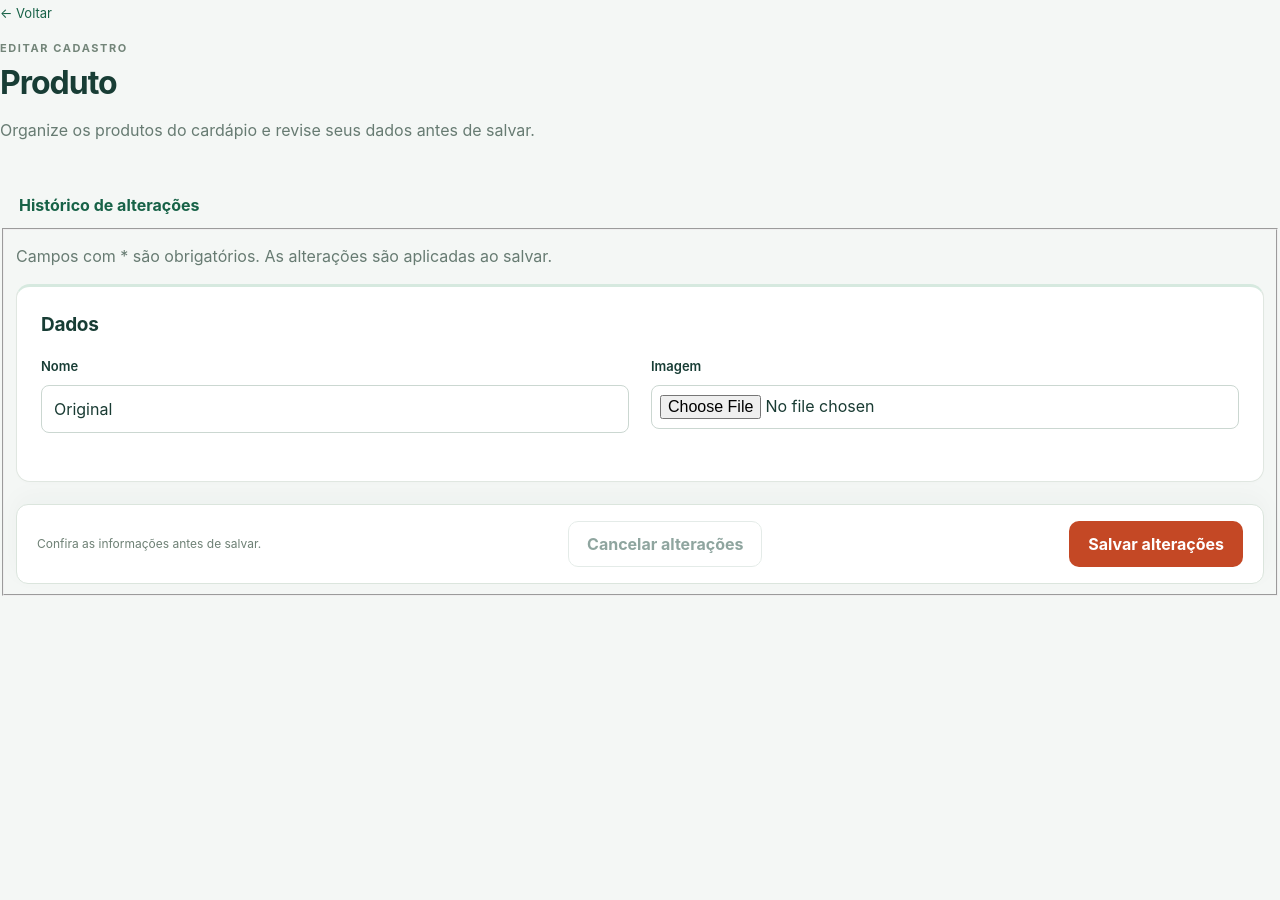
Test: blocks leaving a dirty form and discards only after explicit confirmation
The image size is (1280, 900).
Replace the text in the field labelled "Nome" with "Editado": (335, 409) [41,385,629,433]
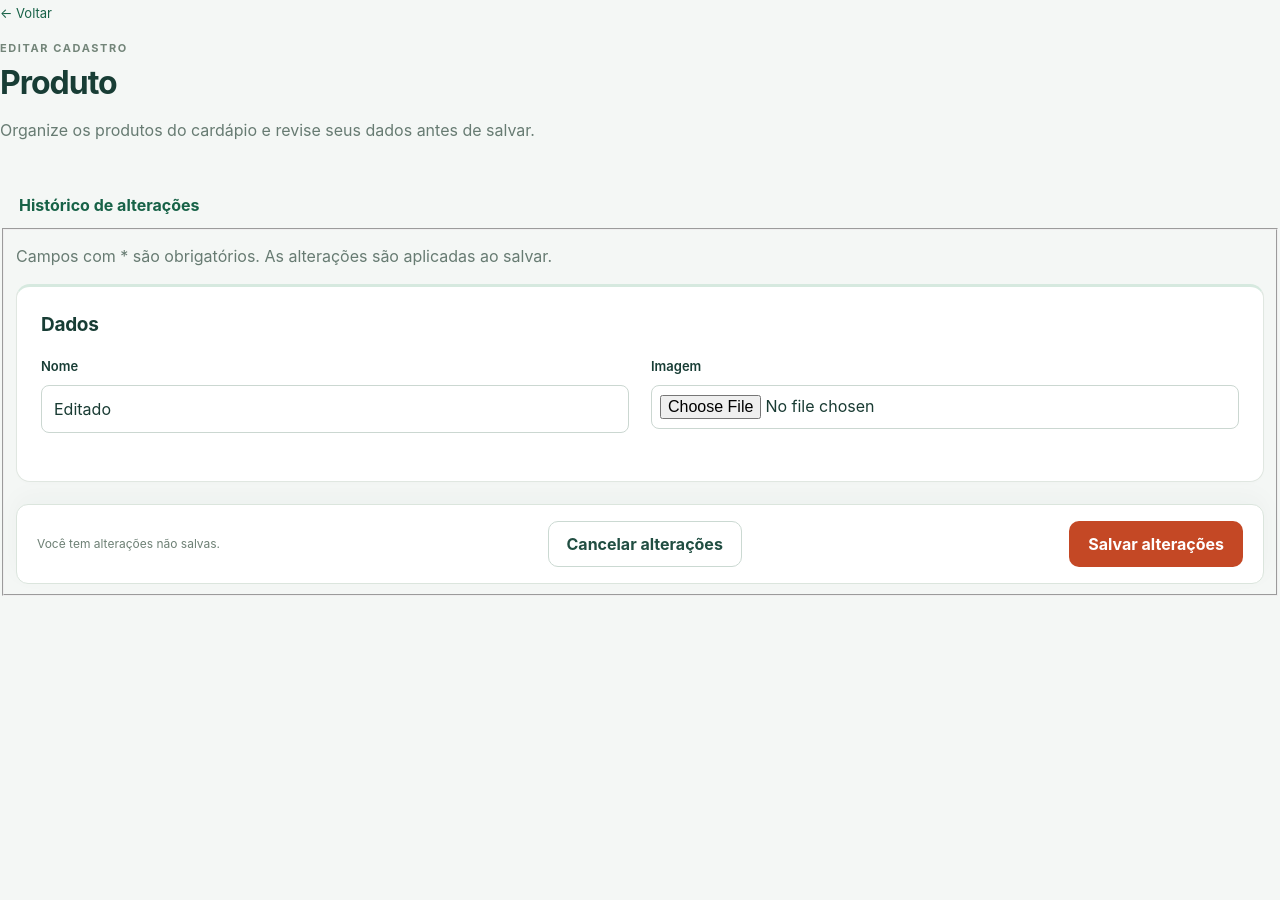
Click the link "← Voltar": (26, 14) [0,4,52,24]
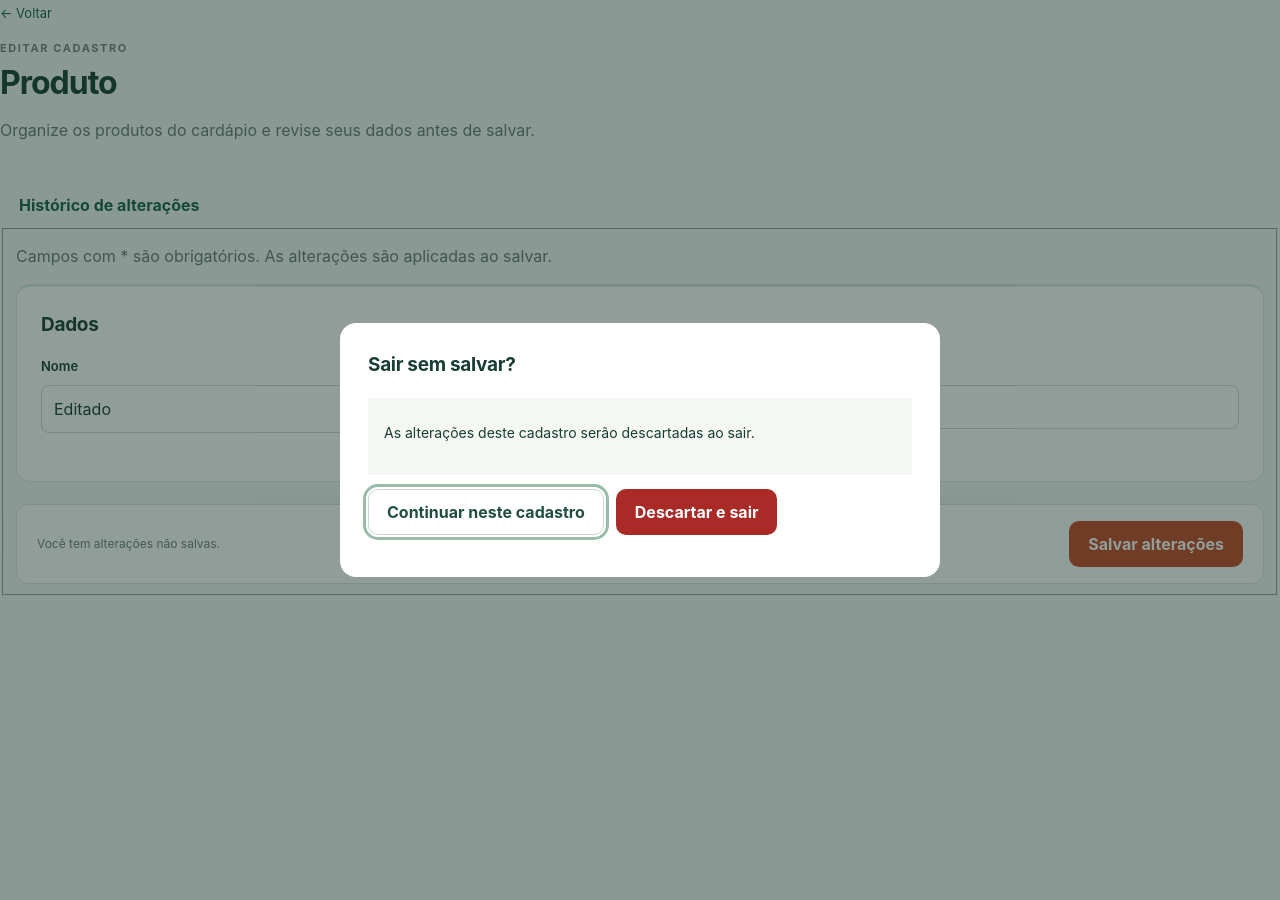
expect the heading "Sair sem salvar?" is shown: met, box [368,353,516,376]
Click the button "Continuar neste cadastro": (486, 512) [368,489,604,535]
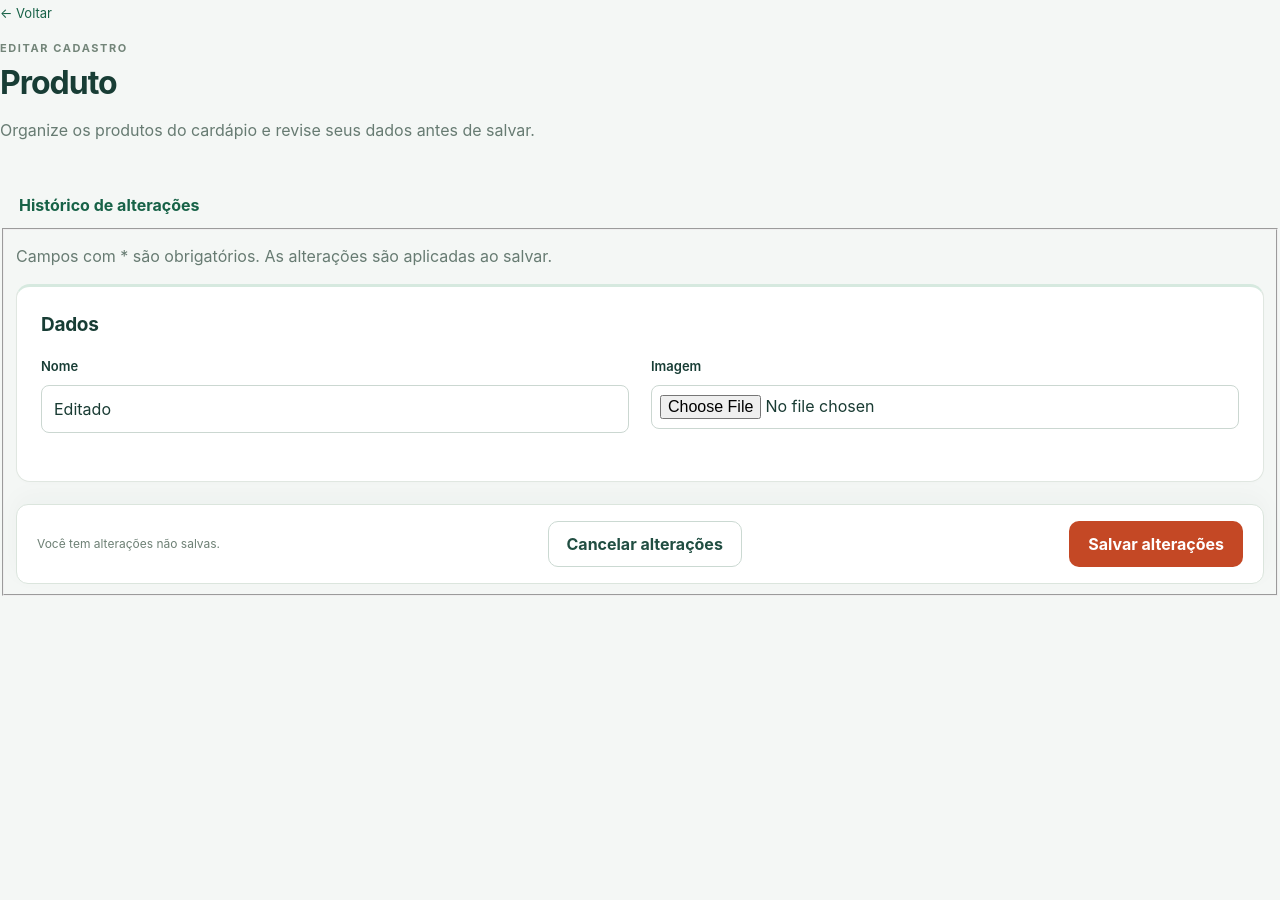
Click the link "← Voltar": (26, 14) [0,4,52,24]
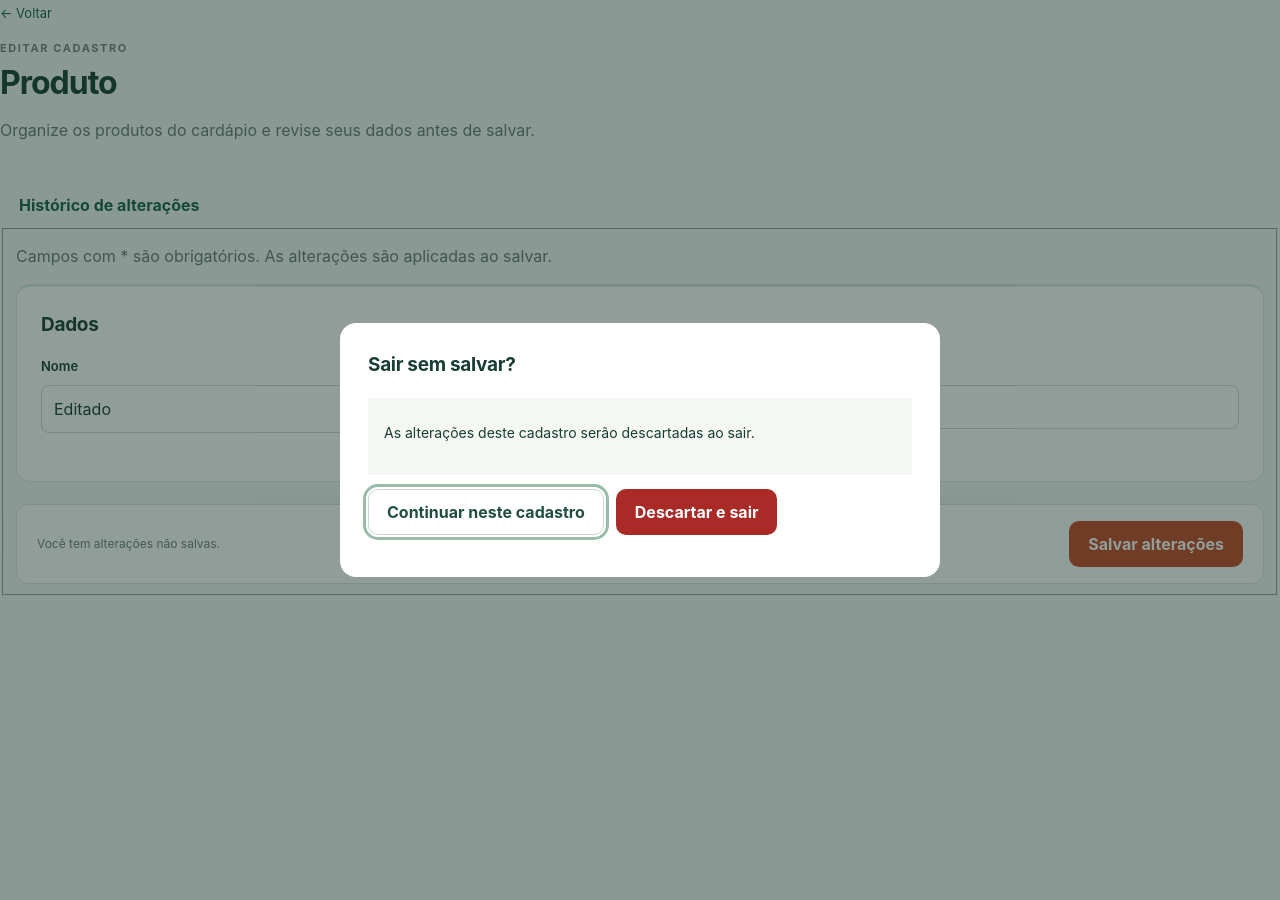
Click the button "Descartar e sair": (697, 512) [616,489,778,535]
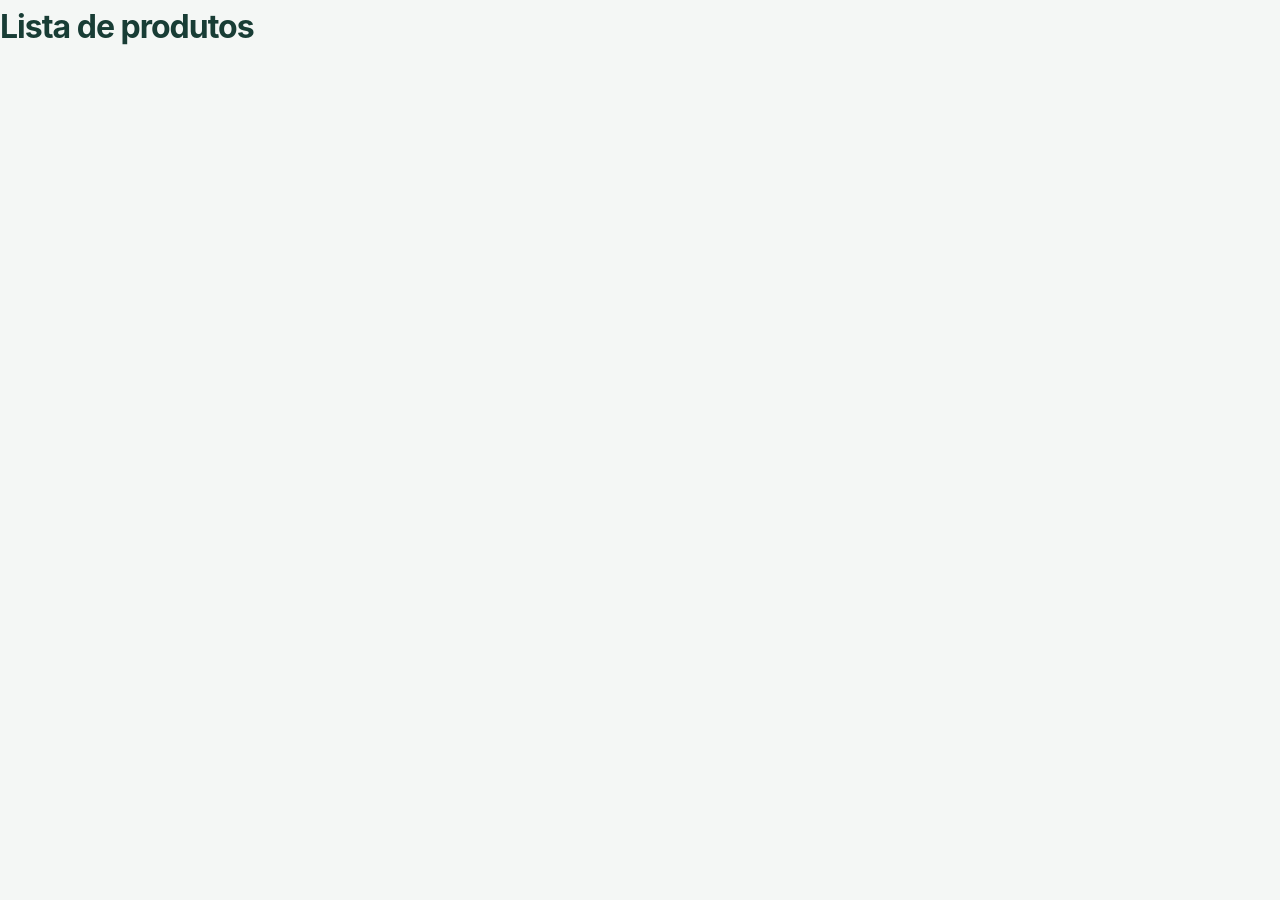
expect the heading "Lista de produtos" is shown: met, box [0,7,254,46]
